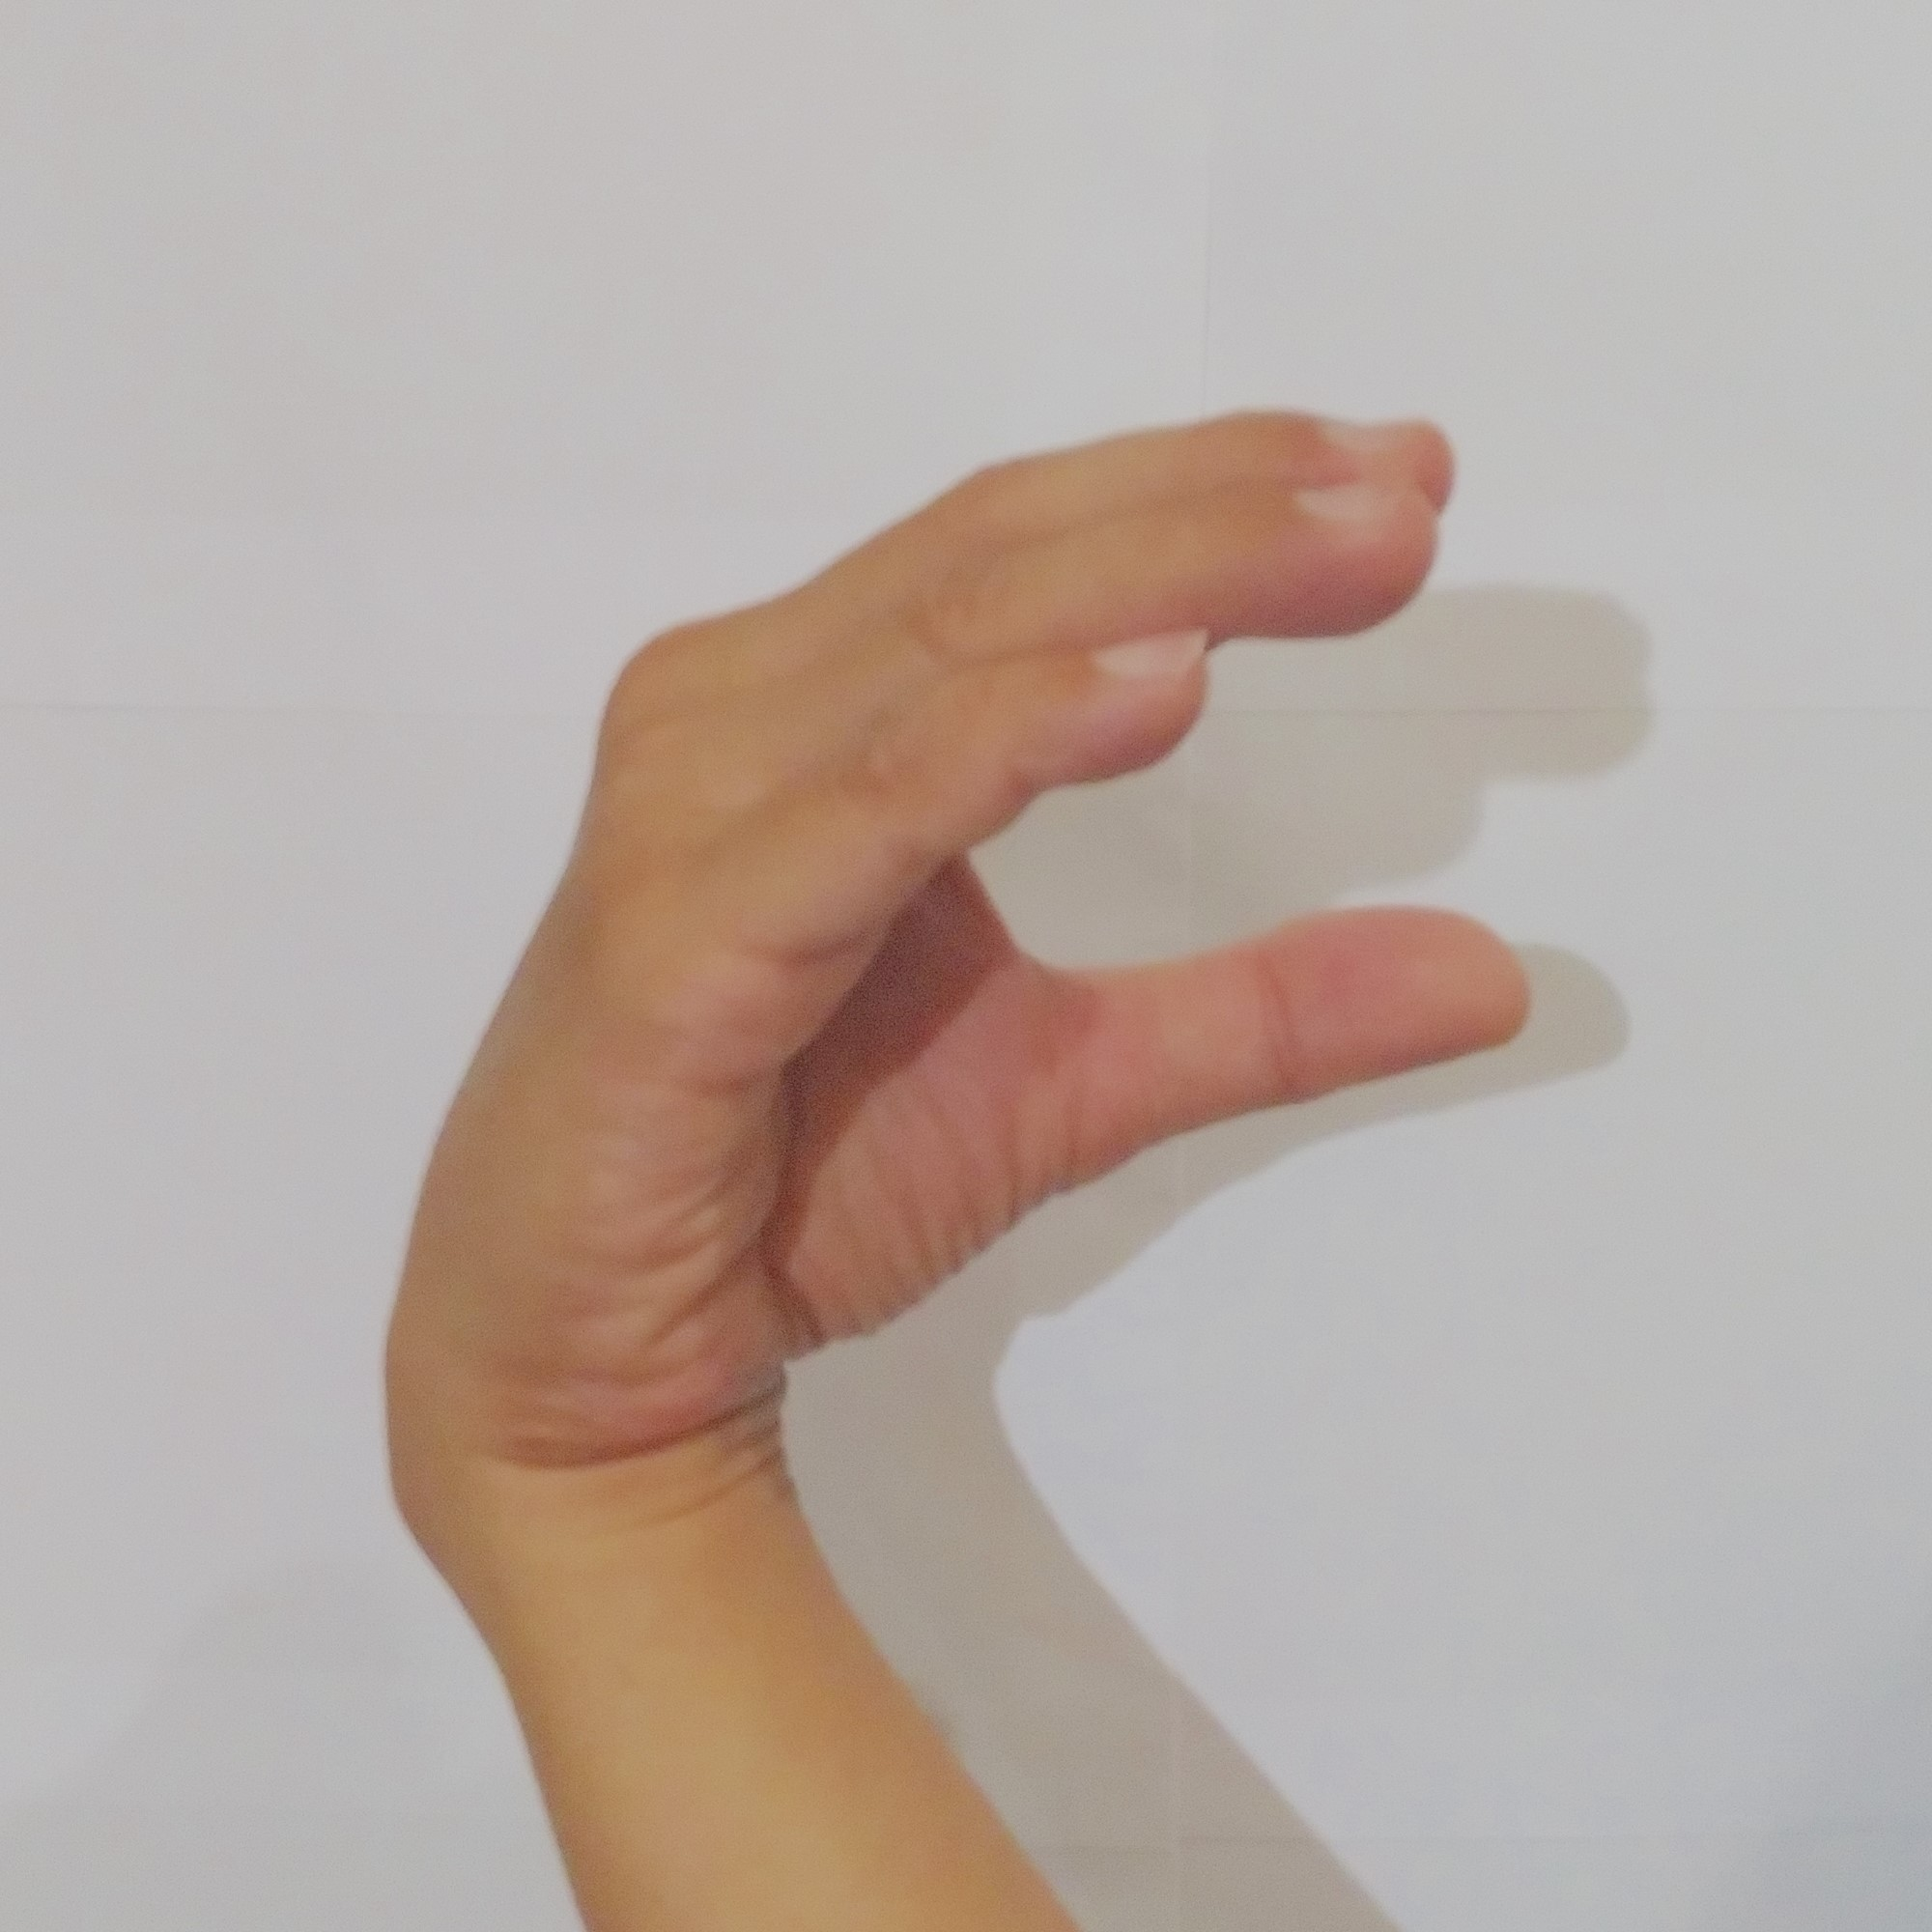C: (400, 384, 1555, 1421)
